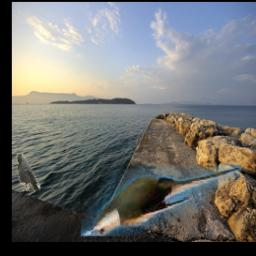Crow: (17, 154, 41, 192)
Cuckoo: (82, 165, 242, 236)
